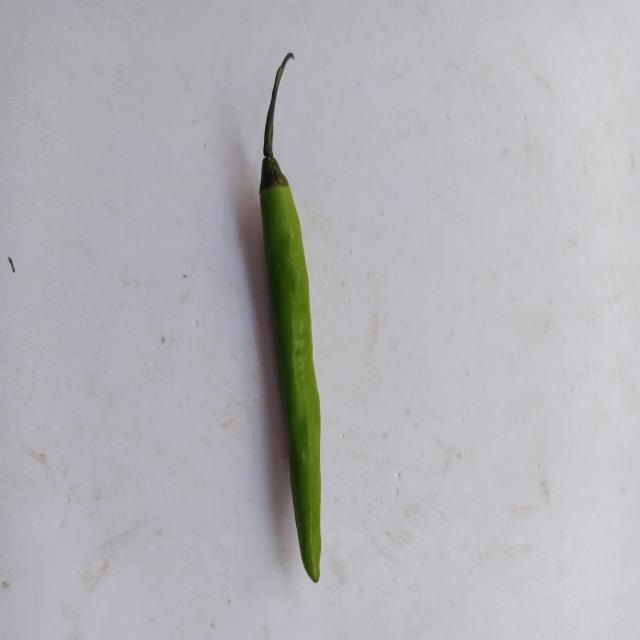Green Chilly: (259, 52, 321, 583)
